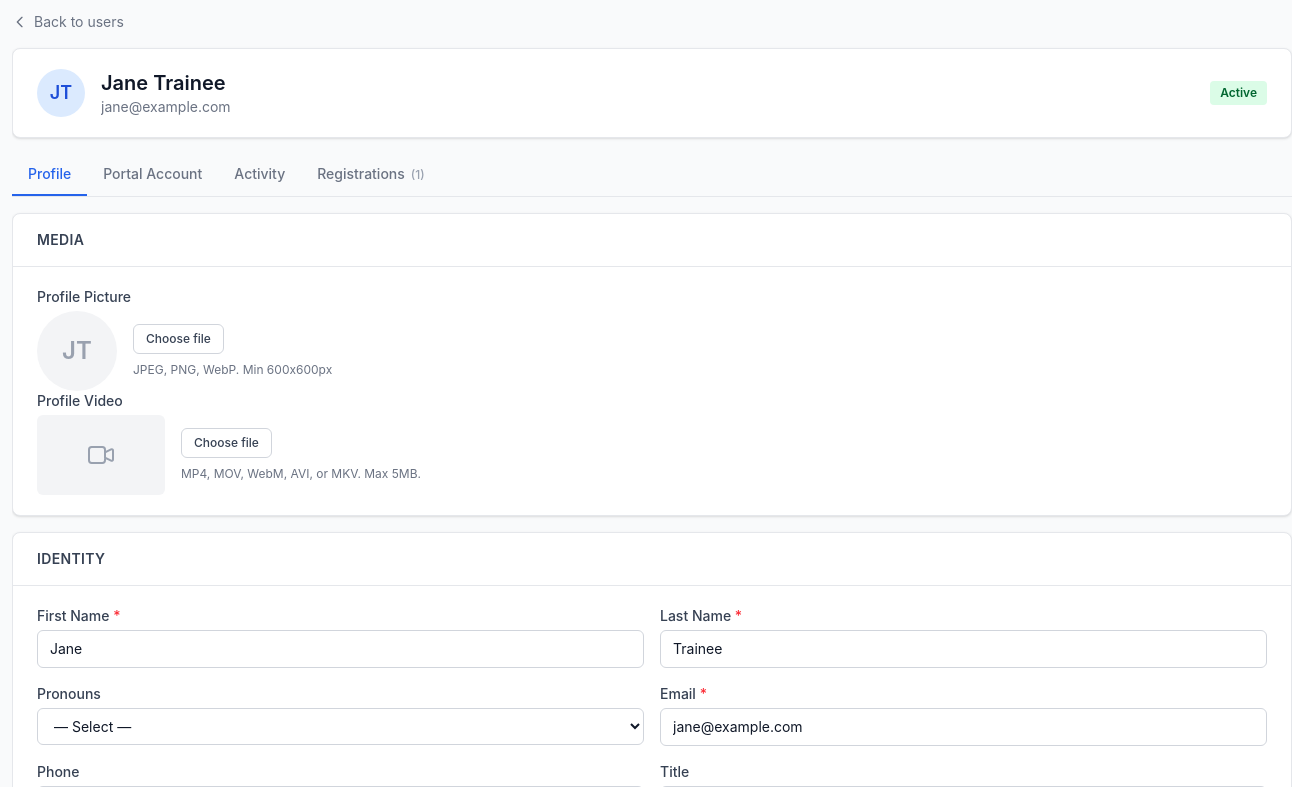
Test: Trainings UserDetailPanel — 4-tab shell › switches to Portal Account tab to show status + 5 admin actions
Check: the heading "Jane Trainee" is shown, box [101, 69, 231, 97]
Click the button "Portal Account" at x=153, y=175, box [87, 154, 218, 196]
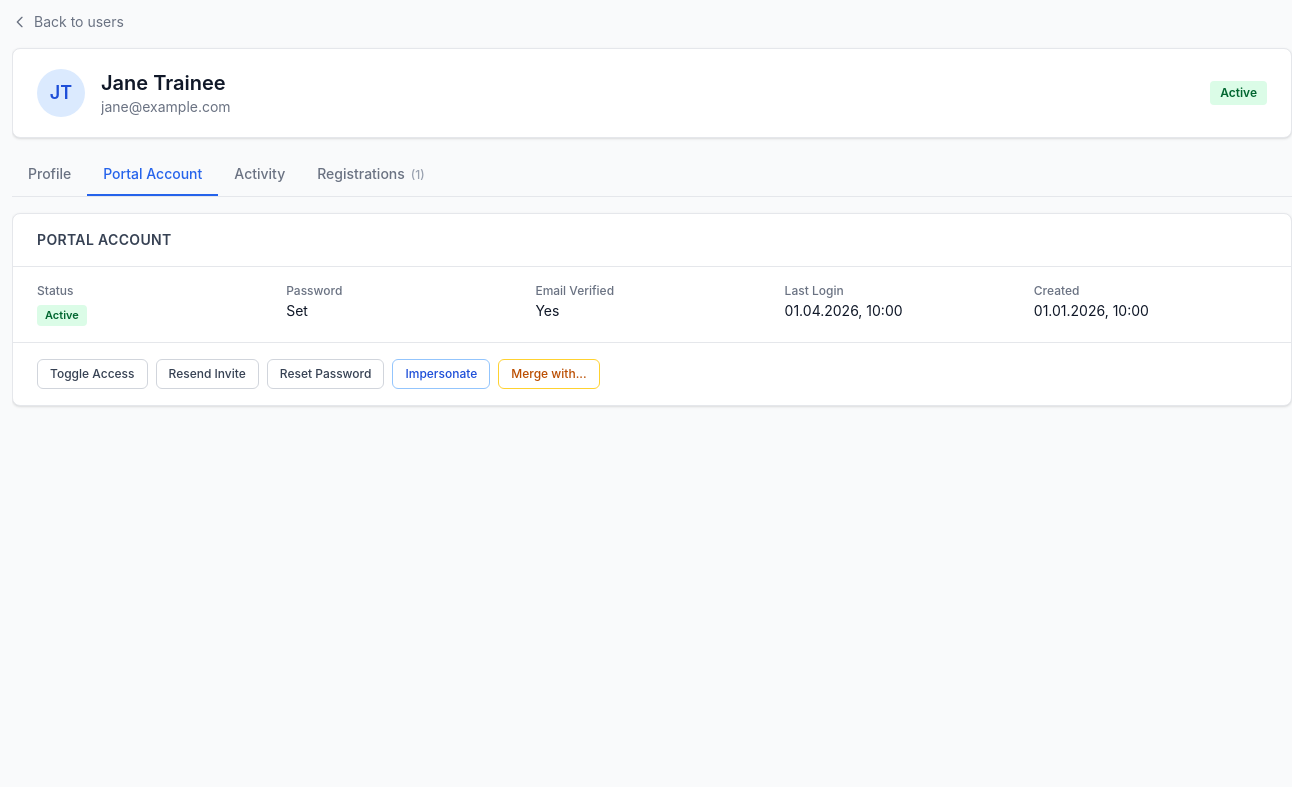
Check: the heading "Portal Account" is shown, box [37, 231, 172, 248]
Check: the button "Toggle Access" is shown, box [37, 358, 148, 388]
Check: the button "Resend Invite" is shown, box [156, 358, 259, 388]
